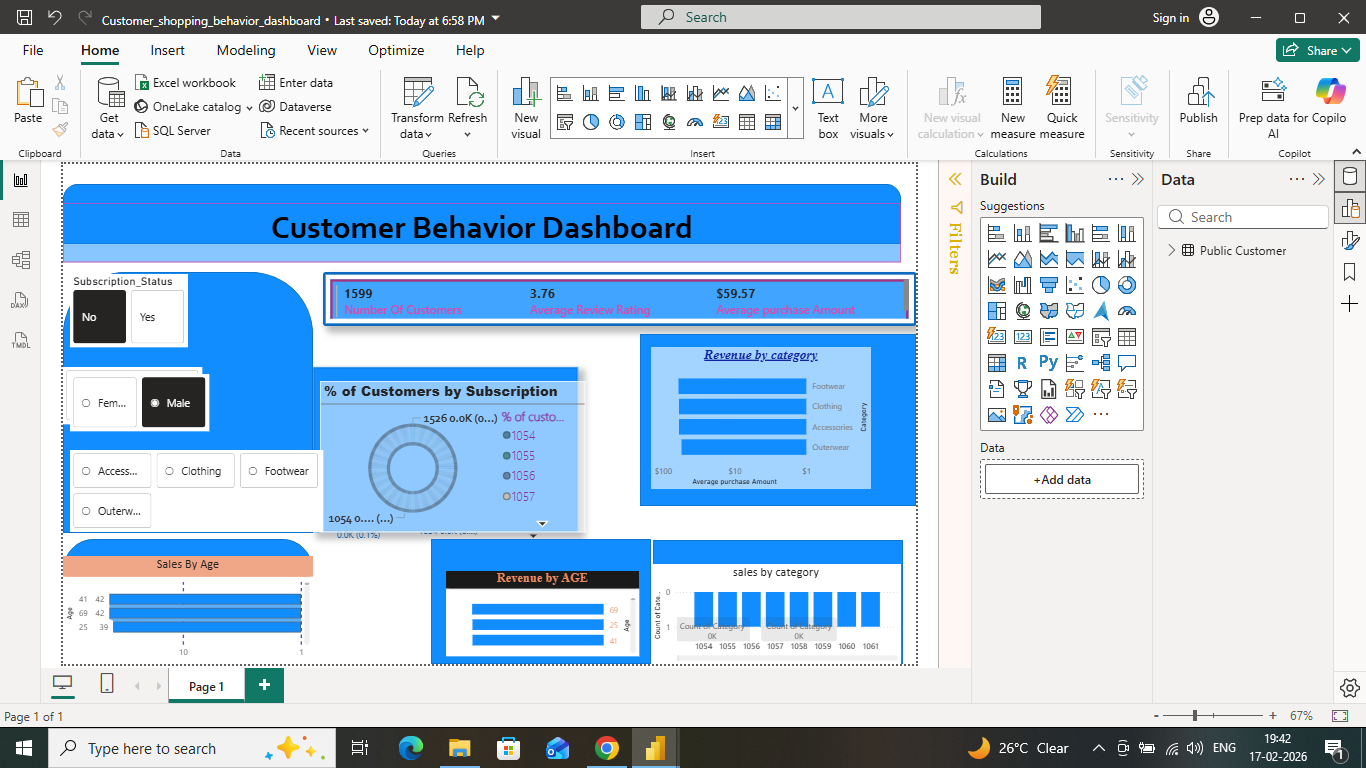

The page's visual inventory and layout, read from the dashboard file:
{"tool":"powerbi","page":{"name":"Page 1","canvas":[1280,720],"ordinal":0},"visuals":[{"type":"multiRowCard","fields":{"Values":["Public Customer.Number Of Customers","Public Customer.Average Review Rating","Public Customer.Average purchase Amount"]},"box":[390,132,889.5,81],"z":0},{"type":"shape","box":[0,0,1257,90],"z":1000},{"type":"textbox","box":[0,28.6,1256.8,89.4],"z":2000},{"type":"donutChart","fields":{"Category":["Public Customer.Customer_ID"],"Y":["CountNonNull(Public Customer.Subscription_Status)"]},"box":[375.4,330.7,396.9,210.9],"z":3000},{"type":"shape","box":[375,274.5,397.5,247.5],"z":4000},{"type":"donutChart","title":"% of Customers by Subscription","fields":{"Category":["Public Customer.Customer_ID"],"Y":["CountNonNull(Public Customer.Subscription_Status)"]},"box":[385.5,295.5,397.5,226.5],"z":5000},{"type":"shape","box":[865.5,225,414,258],"z":6000},{"type":"clusteredBarChart","title":"Revenue by category","fields":{"Category":["Public Customer.Category"],"Y":["Public Customer.Average purchase Amount"]},"box":[882,244.5,330,213],"z":7000},{"type":"shape","box":[0,132,375,391.5],"z":8000},{"type":"shape","box":[885,534,375,186],"z":9000},{"type":"shape","box":[552,532.5,330,187.5],"z":10000},{"type":"clusteredColumnChart","title":"sales by category","fields":{"Category":["Public Customer.Customer_ID"],"Y":["CountNonNull(Public Customer.Category)"]},"box":[882,570,375,150],"z":11000},{"type":"barChart","title":"Revenue by AGE","fields":{"Category":["Public Customer.Age"],"Y":["Sum(Public Customer.Purchase_Amount_USD)"]},"box":[574.5,580.5,289.5,127.5],"z":12000},{"type":"shape","box":[0,533,375,187],"z":13000},{"type":"barChart","title":"Sales By Age","fields":{"Category":["Public Customer.Age"],"Y":["CountNonNull(Public Customer.Customer_ID)"]},"box":[0,558,375,162],"z":14000},{"type":"advancedSlicerVisual","fields":{"Values":["Public Customer.Subscription_Status"]},"box":[10.5,135,177,109.5],"z":15000},{"type":"advancedSlicerVisual","fields":{"Values":["Public Customer.Gender"]},"box":[0,274.5,208.5,85.5],"z":15001},{"type":"advancedSlicerVisual","fields":{"Values":["Public Customer.Category"]},"box":[10.5,399,379.5,123],"z":15002},{"type":"advancedSlicerVisual","fields":{"Values":["Public Customer.Gender"]},"box":[10,284.5,208.5,85.5],"z":15003}]}

Visuals, with their boxes on the page's 1280x720 design canvas (x1, y1, x2, y2). These are canvas units, not pixel positions in the 1366x768 screenshot, which may show the page scaled, cropped or inside an application window:
multiRowCard - Public Customer.Number Of Customers x Public Customer.Average Review Rating: (left=390, top=132, right=1280, bottom=213)
shape: (left=0, top=0, right=1257, bottom=90)
textbox: (left=0, top=29, right=1257, bottom=118)
donutChart - Public Customer.Customer_ID x CountNonNull(Public Customer.Subscription_Status): (left=375, top=331, right=772, bottom=542)
shape: (left=375, top=274, right=772, bottom=522)
"% of Customers by Subscription" donutChart: (left=386, top=296, right=783, bottom=522)
shape: (left=866, top=225, right=1280, bottom=483)
"Revenue by category" clusteredBarChart: (left=882, top=244, right=1212, bottom=458)
shape: (left=0, top=132, right=375, bottom=524)
shape: (left=885, top=534, right=1260, bottom=720)
shape: (left=552, top=532, right=882, bottom=720)
"sales by category" clusteredColumnChart: (left=882, top=570, right=1257, bottom=720)
"Revenue by AGE" barChart: (left=574, top=580, right=864, bottom=708)
shape: (left=0, top=533, right=375, bottom=720)
"Sales By Age" barChart: (left=0, top=558, right=375, bottom=720)
advancedSlicerVisual - Public Customer.Subscription_Status: (left=10, top=135, right=188, bottom=244)
advancedSlicerVisual - Public Customer.Gender: (left=0, top=274, right=208, bottom=360)
advancedSlicerVisual - Public Customer.Category: (left=10, top=399, right=390, bottom=522)
advancedSlicerVisual - Public Customer.Gender: (left=10, top=284, right=218, bottom=370)
